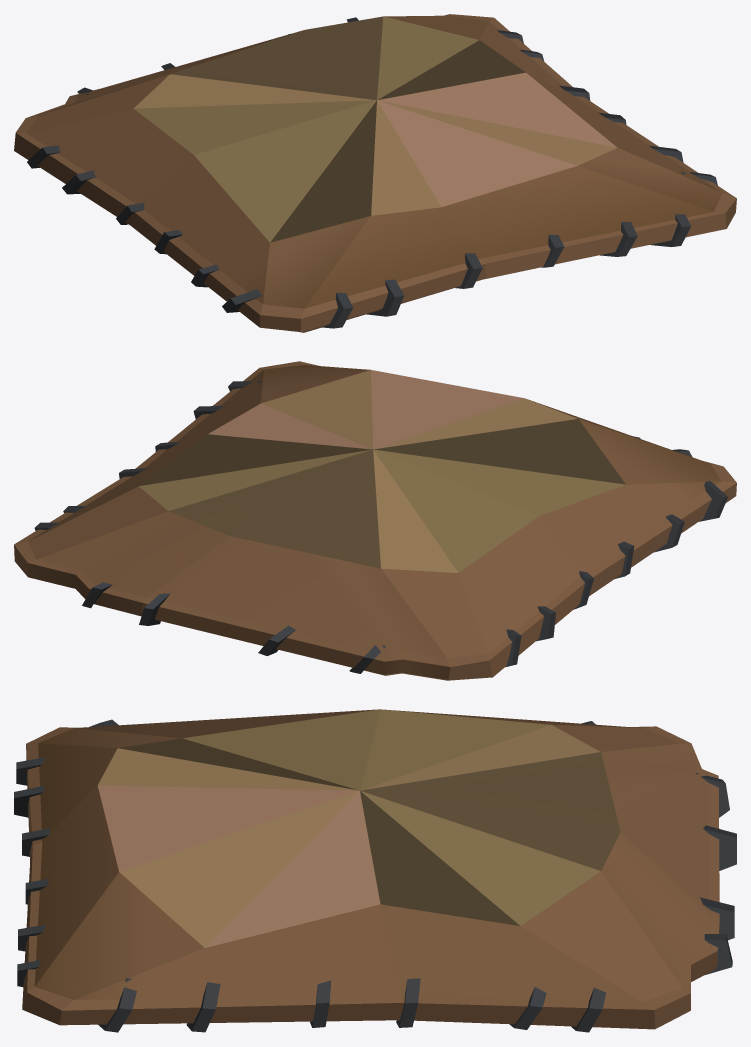
Rendered from SM_Prop_Pillow_05.fbx.
3 renders of one model, top to bottom at view 1: azimuth 30°, elevation 25°; view 2: azimuth 150°, elevation 25°; view 3: azimuth 270°, elevation 25°, orthographic. The views are drawn at different scales.
Parts seen in each view (by area): view 1: SM_Prop_Pillow_05; view 2: SM_Prop_Pillow_05; view 3: SM_Prop_Pillow_05.
Part boxes in pixels (bbox=[...]): SM_Prop_Pillow_05: bbox=[14, 14, 736, 332]; SM_Prop_Pillow_05: bbox=[14, 361, 736, 680]; SM_Prop_Pillow_05: bbox=[14, 709, 736, 1032].
Bounding box in the file's own units: 0.608 × 0.1198 × 0.6434.
Materials: 1 (1 with a texture image).
